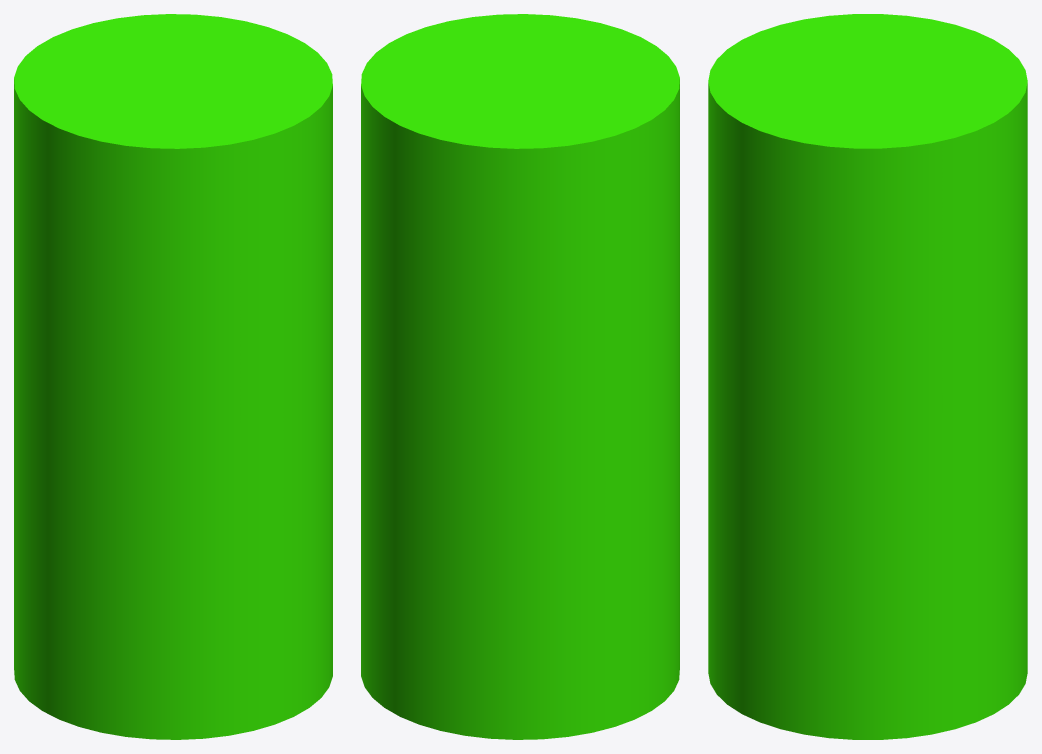
File: pillar.glb
3 renders of one model, left to right at view 1: azimuth 30°, elevation 25°; view 2: azimuth 150°, elevation 25°; view 3: azimuth 270°, elevation 25°, orthographic.
Parts seen in each view (by area): view 1: Mesh; view 2: Mesh; view 3: Mesh.
Boxes of the visible parts, x1,y1,x2,y2 form: Mesh: (14, 14, 332, 739); Mesh: (361, 14, 679, 739); Mesh: (708, 14, 1027, 739).
Bounding box in the file's own units: 4.88 × 10 × 4.9.
